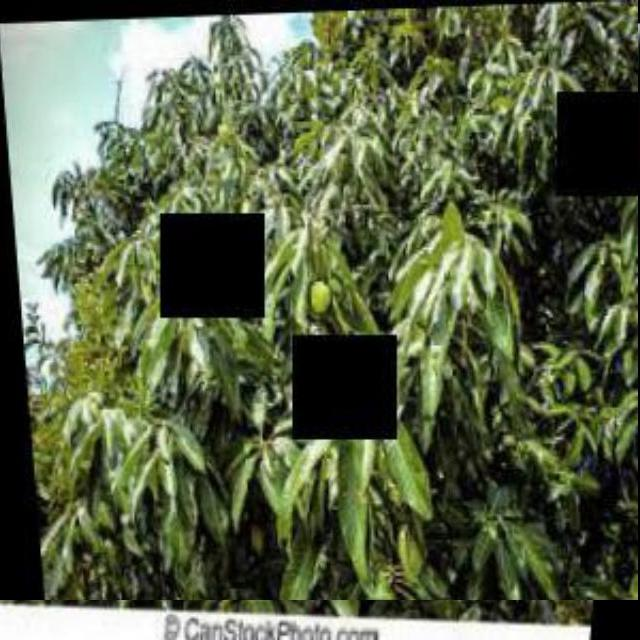tree: (0, 0, 638, 600)
